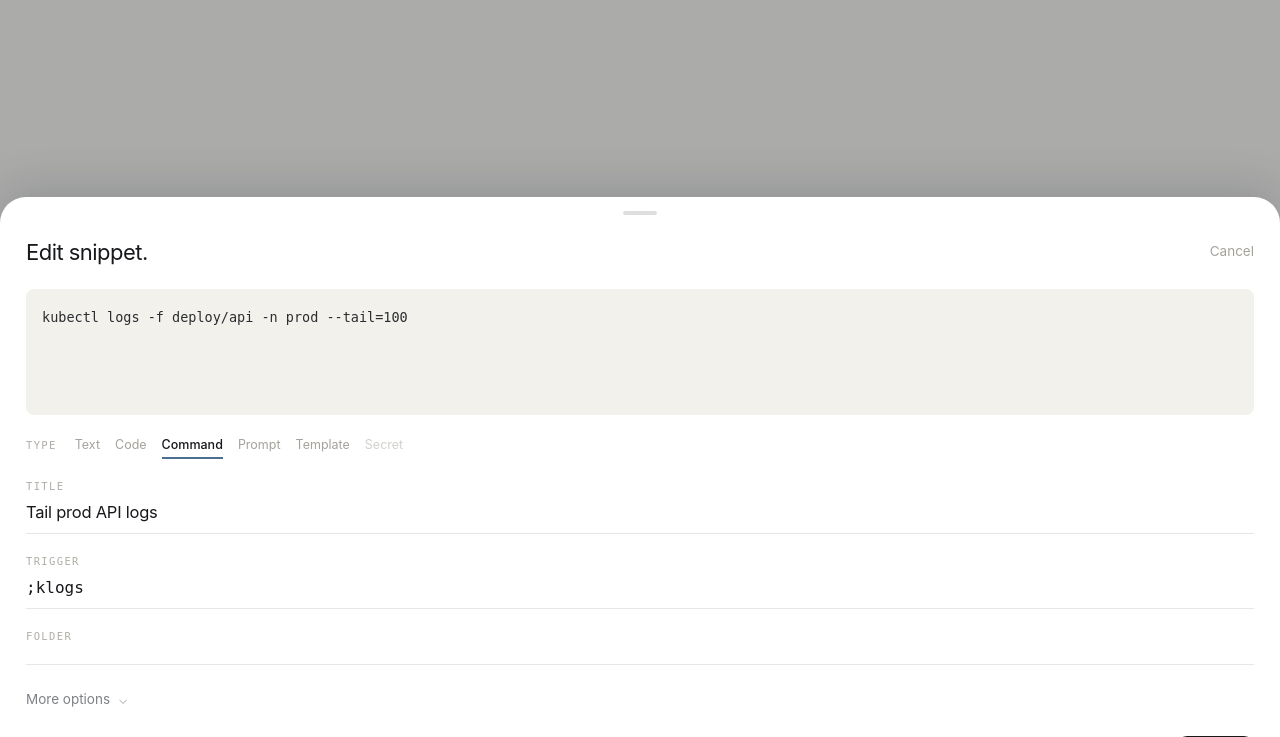
Scenario: SnippetEditorPage — edit › renders the version list rows from historyList — no diff on mobile
// The versions sit behind the More options fold.
Click the button "More options ⌄": (77, 699) [26,692,128,706]
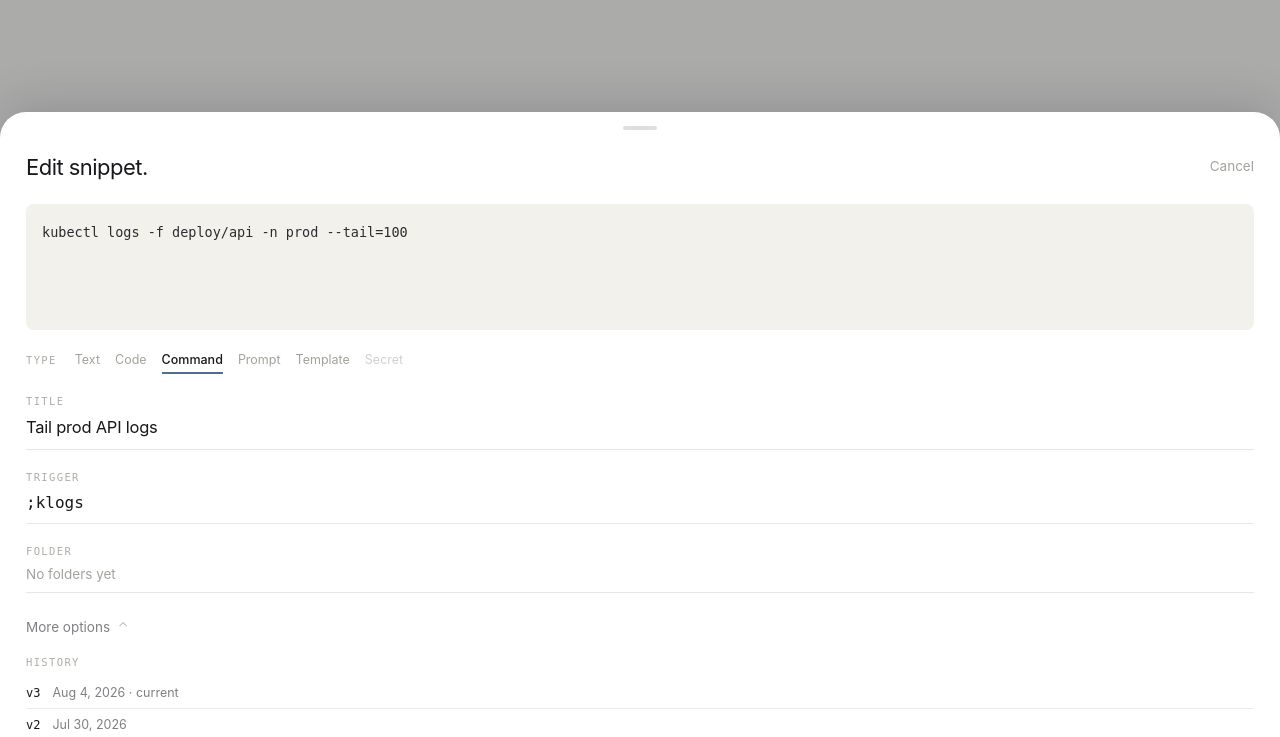
Now the text "v3" is shown, box [26,686,40,700]
Now the text "v2" is shown, box [26,718,40,732]
Now the text "Aug 4, 2026 · current" is shown, box [52,685,179,700]
